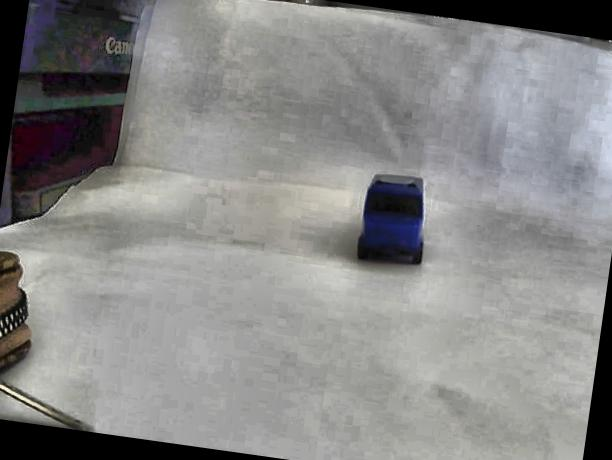police car: (350, 170, 435, 272)
